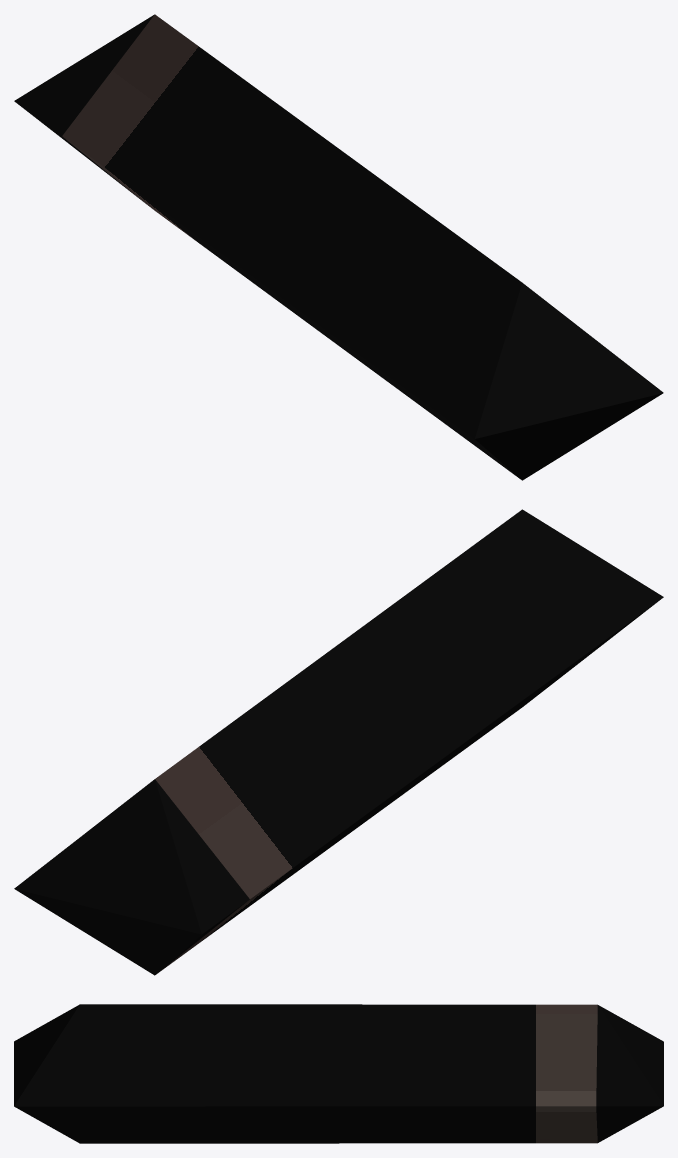
Rendered from chestnut_thin_trunk_horizontal.obj.
3 renders of one model, top to bottom at view 1: azimuth 30°, elevation 25°; view 2: azimuth 150°, elevation 25°; view 3: azimuth 270°, elevation 25°, orthographic. The views are drawn at different scales.
Parts seen in each view (by area): view 1: cube_selection_selection; view 2: cube_selection_selection; view 3: cube_selection_selection.
Boxes of the visible parts, box(x1,y1,x2,y2) form: cube_selection_selection: box(14, 14, 663, 480); cube_selection_selection: box(14, 509, 663, 975); cube_selection_selection: box(14, 1004, 663, 1143).
Size of the model in its own units: 0.3107 by 0.3104 by 1.31.
